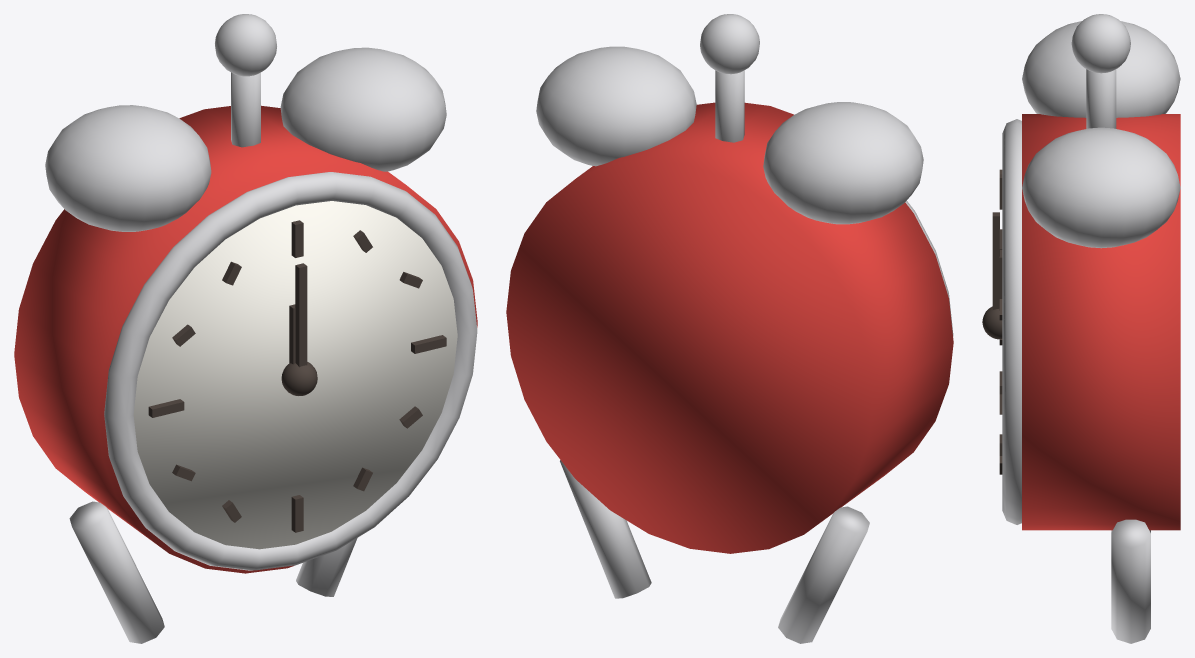
The model's file is shelf_clock.glb.
3 renders of one model, left to right at view 1: azimuth 30°, elevation 25°; view 2: azimuth 150°, elevation 25°; view 3: azimuth 270°, elevation 25°, orthographic. The views are drawn at different scales.
Visible parts, largest first — view 1: shelf_clock, ClockMinute; view 2: shelf_clock; view 3: shelf_clock, ClockMinute.
Boxes of the visible parts, <box> form: shelf_clock: <box>14,14,477,643</box>; ClockMinute: <box>295,263,307,367</box>; shelf_clock: <box>506,14,953,643</box>; shelf_clock: <box>982,14,1180,643</box>; ClockMinute: <box>992,212,999,309</box>.
Size of the model in its own units: 0.084 by 0.1293 by 0.04.
